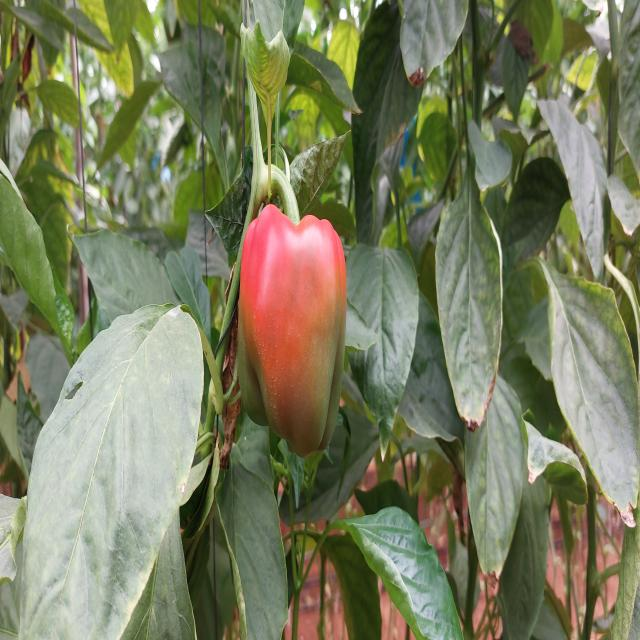BrownishRed--Can-be-Harvested: (240, 216, 346, 450)
